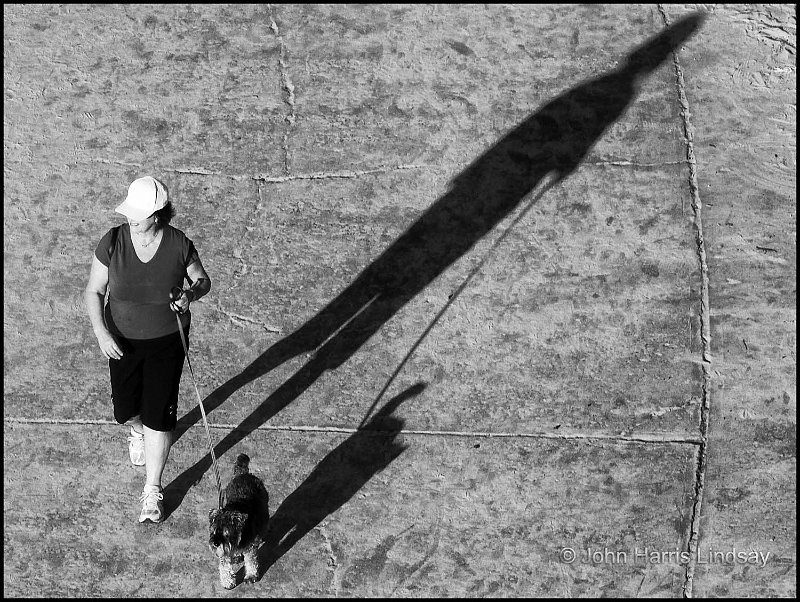Person: (82, 175, 212, 527)
